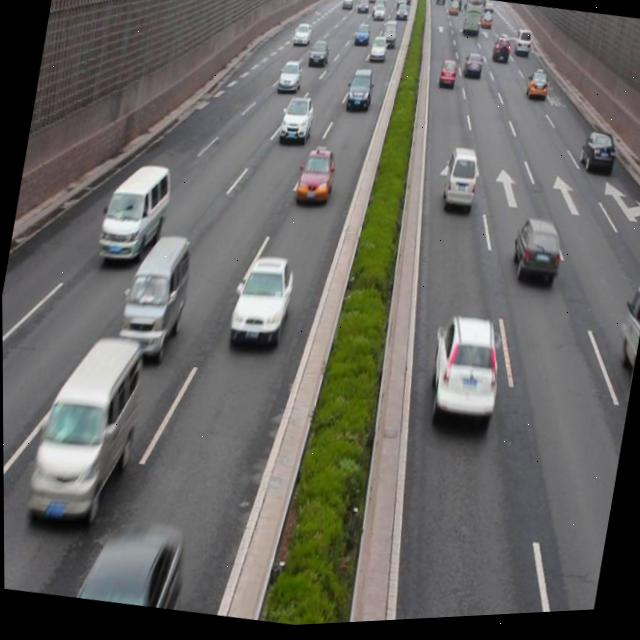car: (419, 313, 507, 439), (78, 519, 185, 615), (224, 250, 298, 357), (505, 219, 563, 294), (294, 147, 337, 209), (277, 94, 316, 147), (574, 133, 616, 182), (343, 69, 374, 115)
truck: (22, 323, 148, 536), (116, 230, 196, 365), (96, 159, 175, 270), (437, 148, 480, 219), (611, 287, 640, 383)
